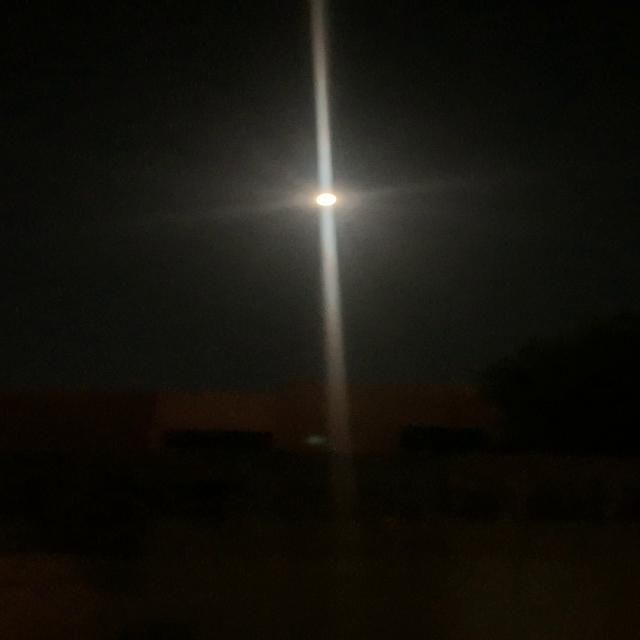moon: (292, 182, 356, 215)
